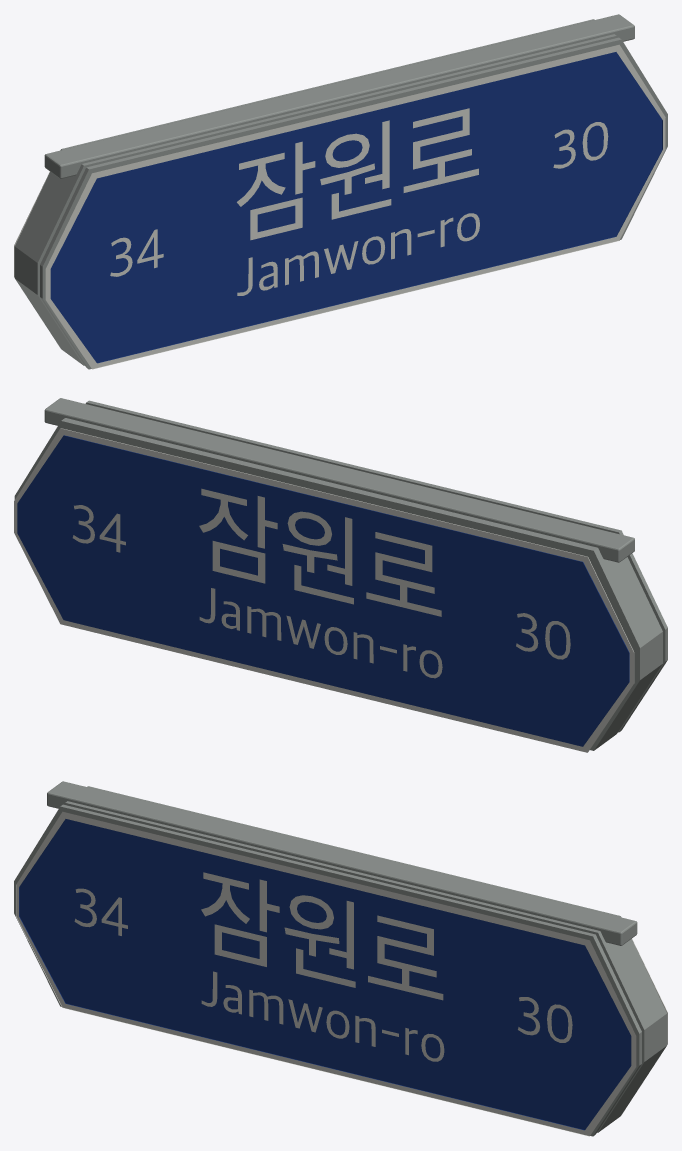
The model's file is jamwon.glb.
The picture shows the model from 3 angles, top to bottom: view 1: azimuth 30°, elevation 25°; view 2: azimuth 150°, elevation 25°; view 3: azimuth 330°, elevation 25°; orthographic projection.
Parts seen in each view (by area): view 1: jamwon; view 2: jamwon; view 3: jamwon.
Boxes of the visible parts, x1,y1,x2,y2 form: jamwon: (14,14,667,369); jamwon: (14,398,667,752); jamwon: (14,781,667,1136).
Size of the model in its own units: 0.932 by 0.29 by 0.0969.
